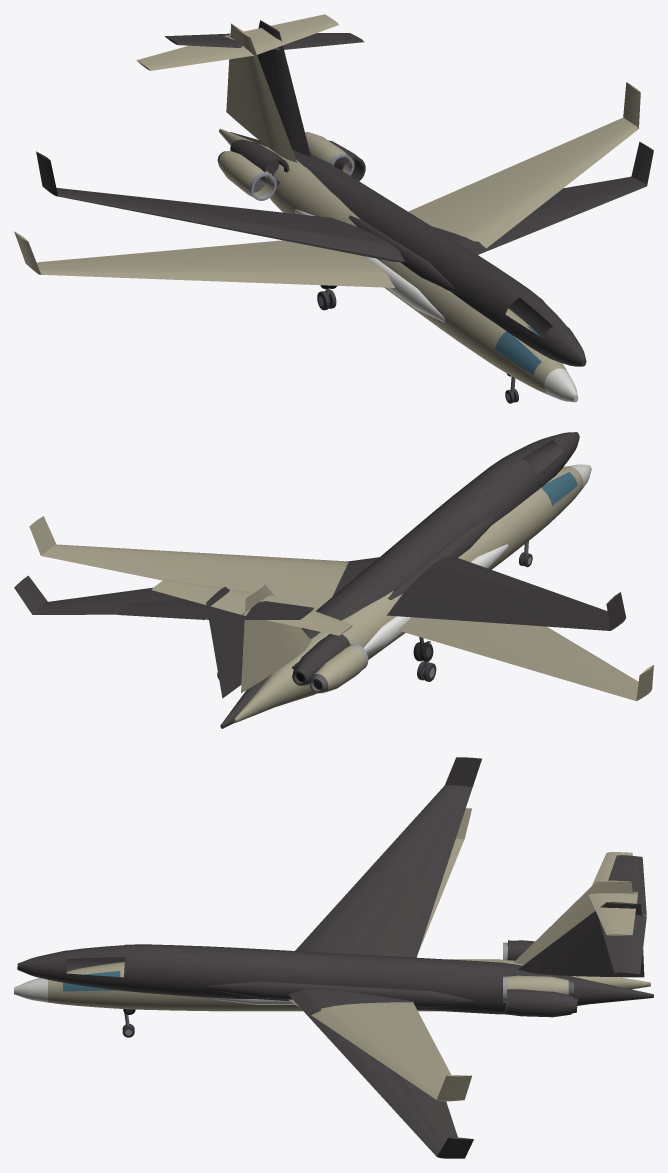
Rendered from aewc__g550_eitam.glb.
3 renders of one model, top to bottom at view 1: azimuth 30°, elevation 25°; view 2: azimuth 150°, elevation 25°; view 3: azimuth 270°, elevation 25°, orthographic. The views are drawn at different scales.
Parts seen in each view (by area): view 1: Fuselage_Mesh, Wreck; view 2: Fuselage_Mesh, Wreck; view 3: Wreck, Fuselage_Mesh.
Boxes of the visible parts, x1,y1,x2,y2 form: Fuselage_Mesh: (14,14,640,403); Wreck: (36,20,653,376); Fuselage_Mesh: (29,464,653,722); Wreck: (14,432,626,728); Wreck: (17,757,653,1158); Fuselage_Mesh: (14,808,650,1101).
Size of what is drawn, in the model's own units: 29.98 by 8.02 by 29.54.
